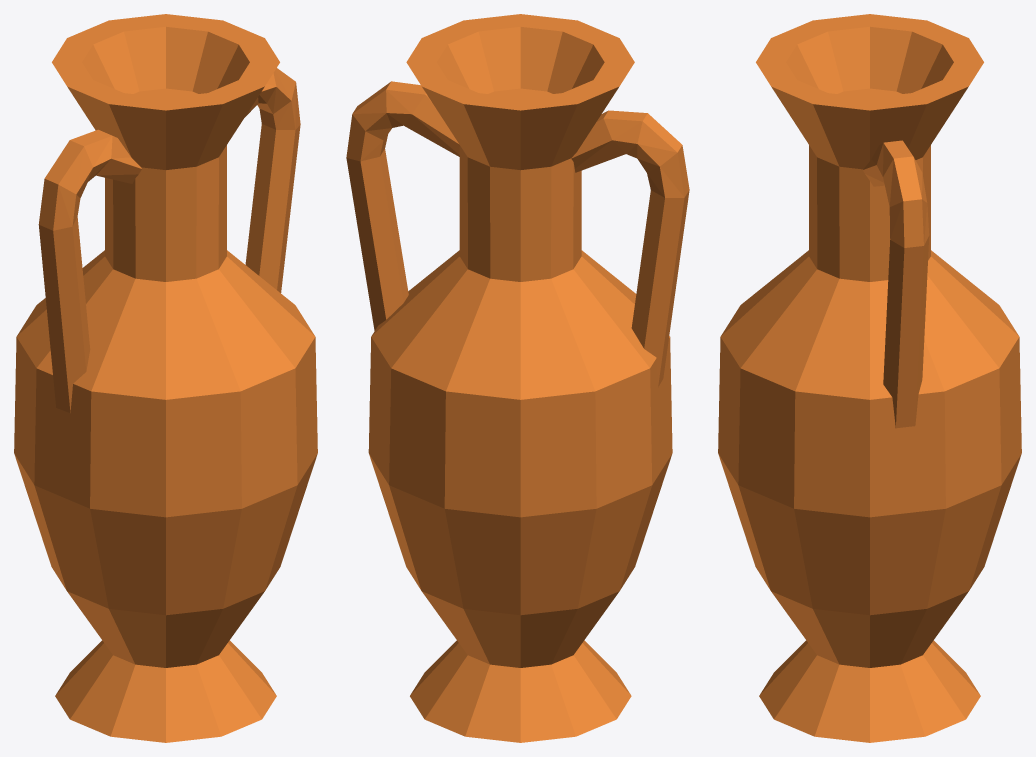
The model's file is amphora_credit.fbx.
The picture shows the model from 3 angles, left to right: view 1: azimuth 30°, elevation 25°; view 2: azimuth 150°, elevation 25°; view 3: azimuth 270°, elevation 25°; orthographic projection.
Parts seen in each view (by area): view 1: amphora; view 2: amphora; view 3: amphora.
Part boxes in pixels (bbox=[...]): amphora: bbox=[14, 14, 317, 742]; amphora: bbox=[346, 14, 689, 742]; amphora: bbox=[718, 14, 1021, 742].
Size of the model in its own units: 25.44 by 51.82 by 22.51.
1 material, 1 textured.
